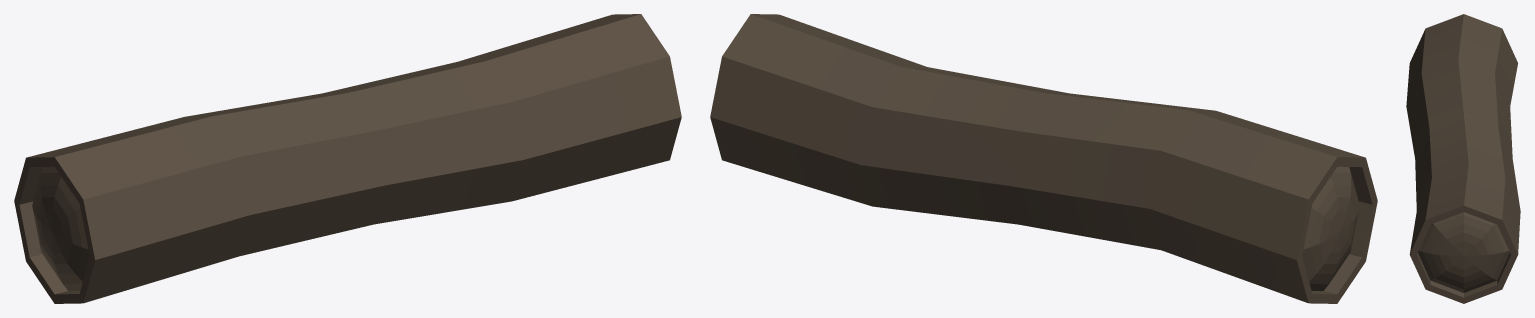
File: Log_V3_Bent.fbx
The picture shows the model from 3 angles, left to right: view 1: azimuth 30°, elevation 25°; view 2: azimuth 150°, elevation 25°; view 3: azimuth 270°, elevation 25°; orthographic projection. The views are drawn at different scales.
Parts seen in each view (by area): view 1: Log_Bent_01; view 2: Log_Bent_01; view 3: Log_Bent_01.
Part boxes in pixels (bbox=[...]): Log_Bent_01: bbox=[14, 14, 681, 303]; Log_Bent_01: bbox=[710, 14, 1377, 303]; Log_Bent_01: bbox=[1406, 14, 1520, 303].
Size of the model in its own units: 84.51 by 21.75 by 21.06.
